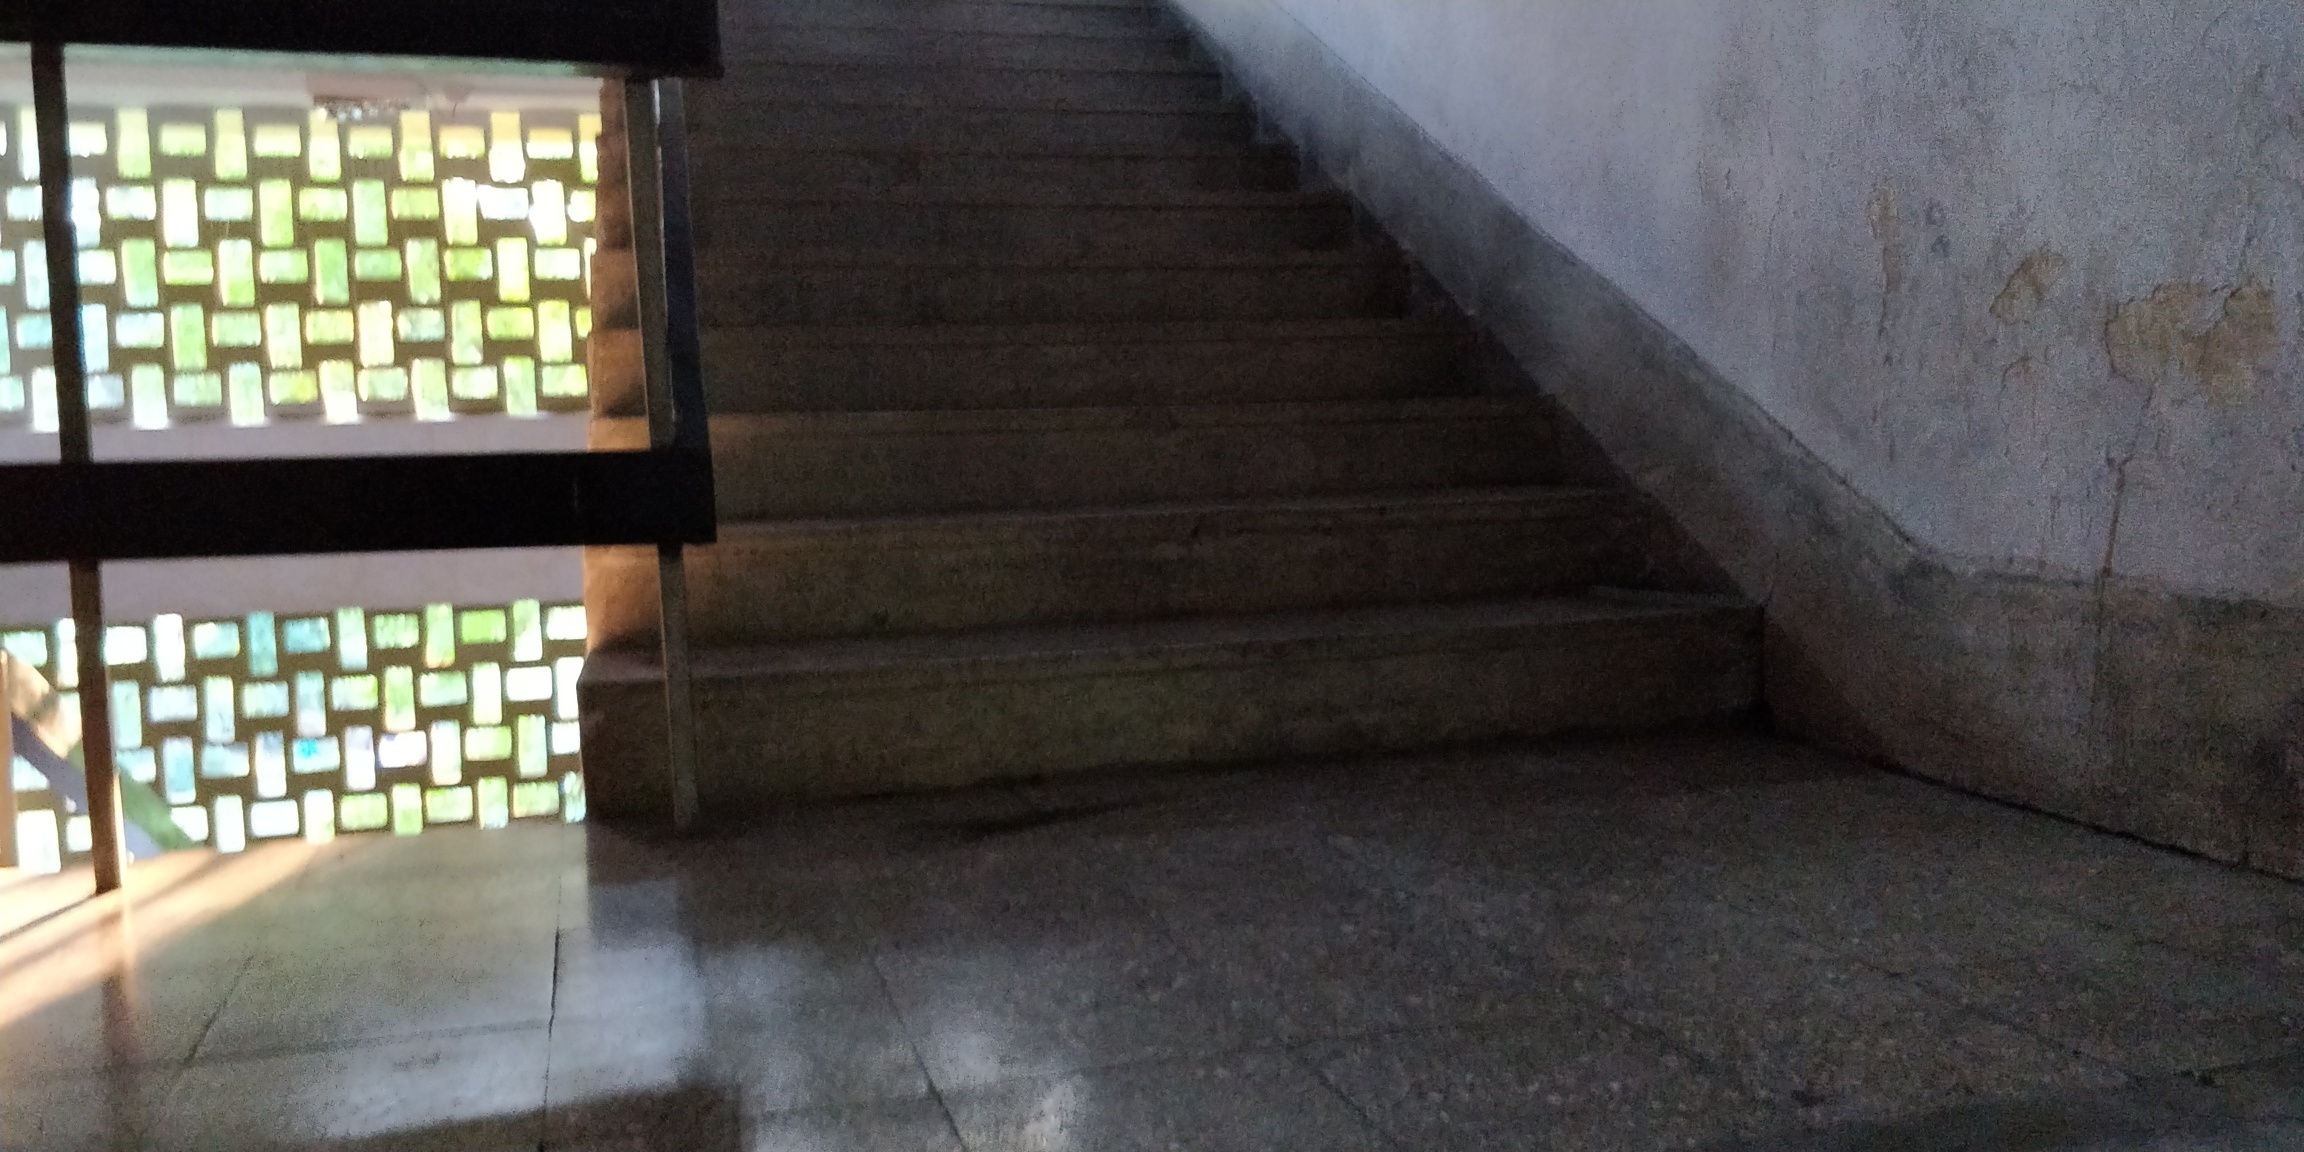stairs_up: (630, 12, 1688, 732)
